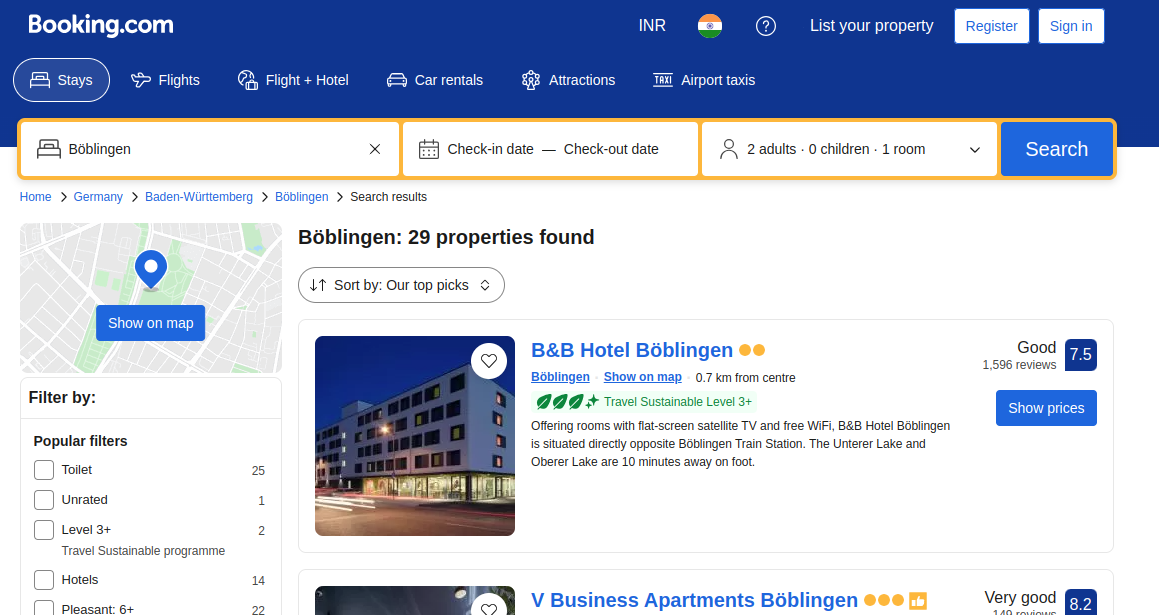menu-bar: (10, 7, 1147, 116)
